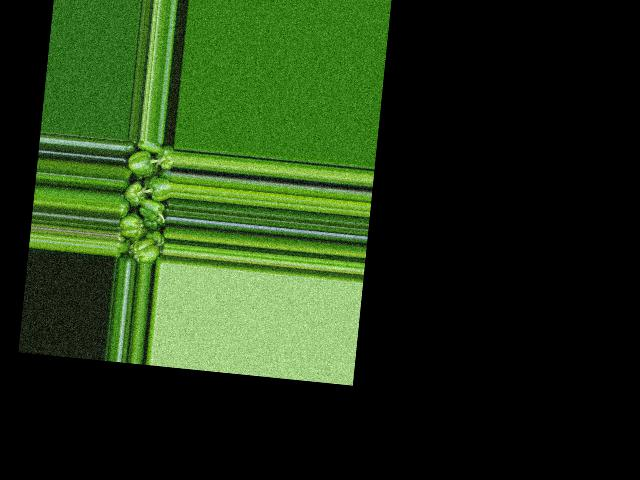bell_pepper: (114, 140, 173, 265)
